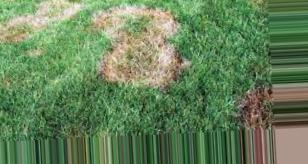patch: (103, 14, 177, 86)
